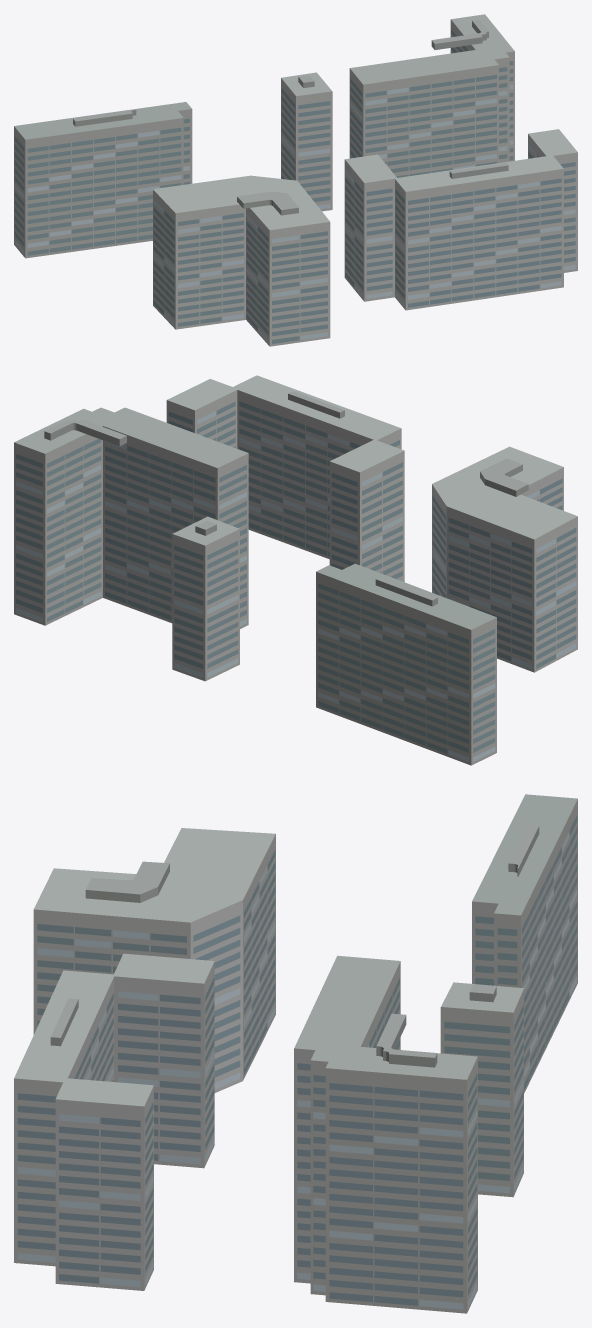
File: apt-a15086201.glb
The picture shows the model from 3 angles, top to bottom: view 1: azimuth 30°, elevation 25°; view 2: azimuth 150°, elevation 25°; view 3: azimuth 270°, elevation 25°; orthographic projection. The views are drawn at different scales.
Parts seen in each view (by area): view 1: apt-a15086201; view 2: apt-a15086201; view 3: apt-a15086201.
Part boxes in pixels (x1,y1,x2,y2): apt-a15086201: (14, 14, 577, 346); apt-a15086201: (14, 375, 577, 765); apt-a15086201: (14, 794, 577, 1313).
Bounding box in the file's own units: 178 × 60.35 × 127.
